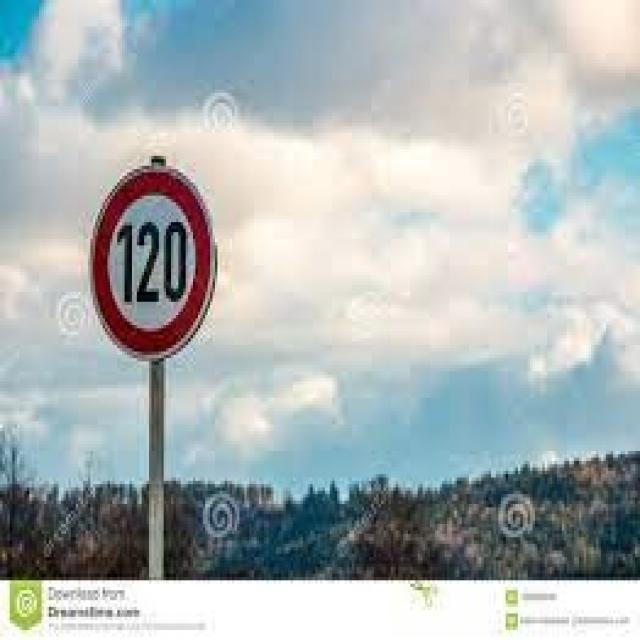speed_limit_120: (82, 152, 218, 369)
